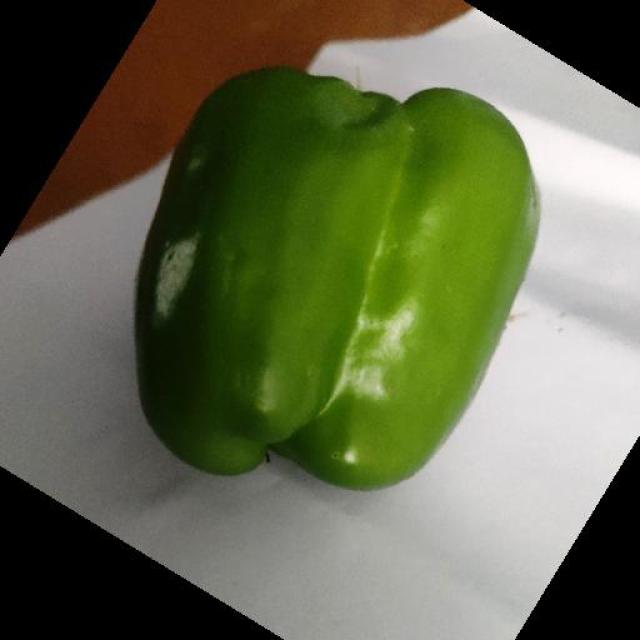Stale_Capsicum: (155, 180, 313, 423)
